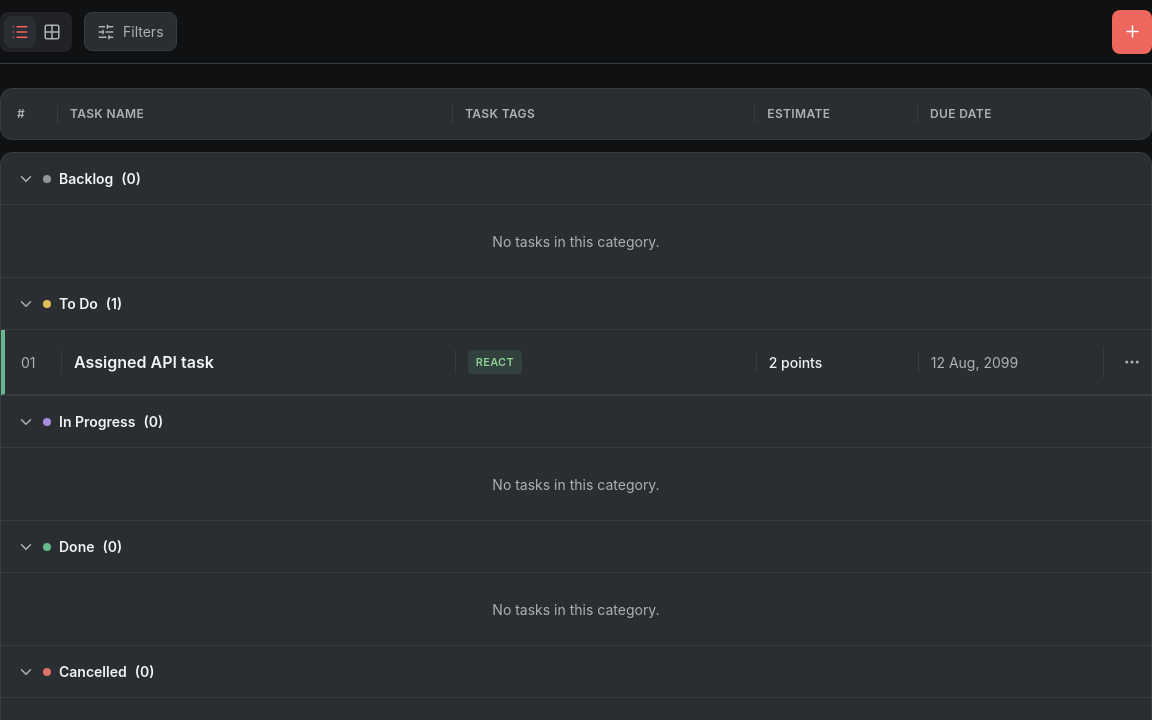
Scenario: MyTasksPage view toggle › shows the same assigned tasks as a board once the control is pressed
The image size is (1152, 720).
Step 1. Click the button named "Dashboard view" → (52, 32), box [36,16,68,48]
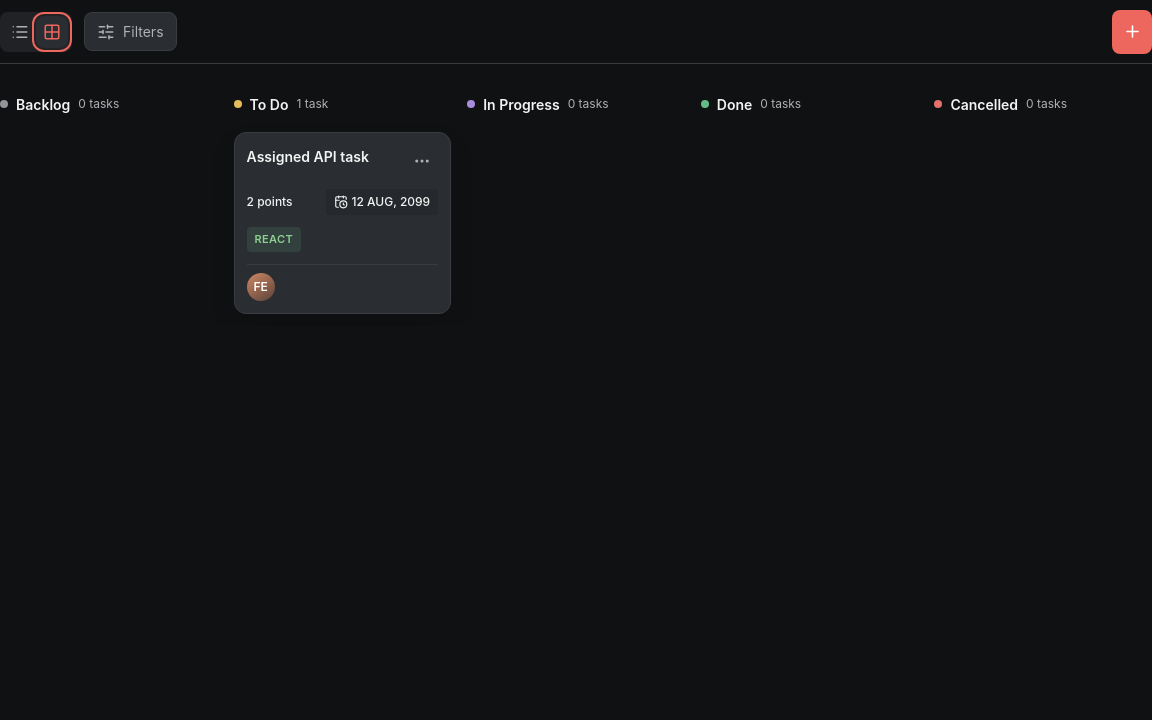
Expected: the element named "Task board" is shown, [0,64,1151,326]
Expected: the element "Assigned API task" is shown, [234,132,451,314]
